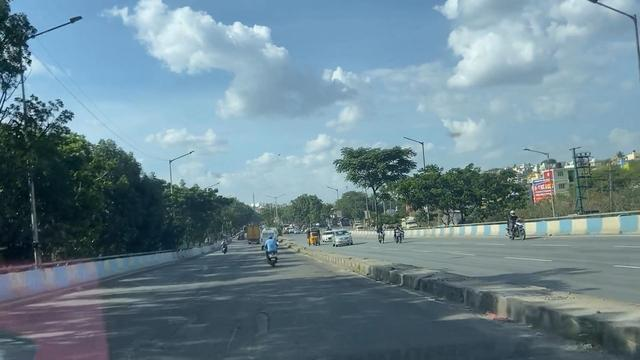LMV: (263, 223, 279, 267)
RoadDamages: (212, 285, 299, 360), (121, 311, 193, 360)
